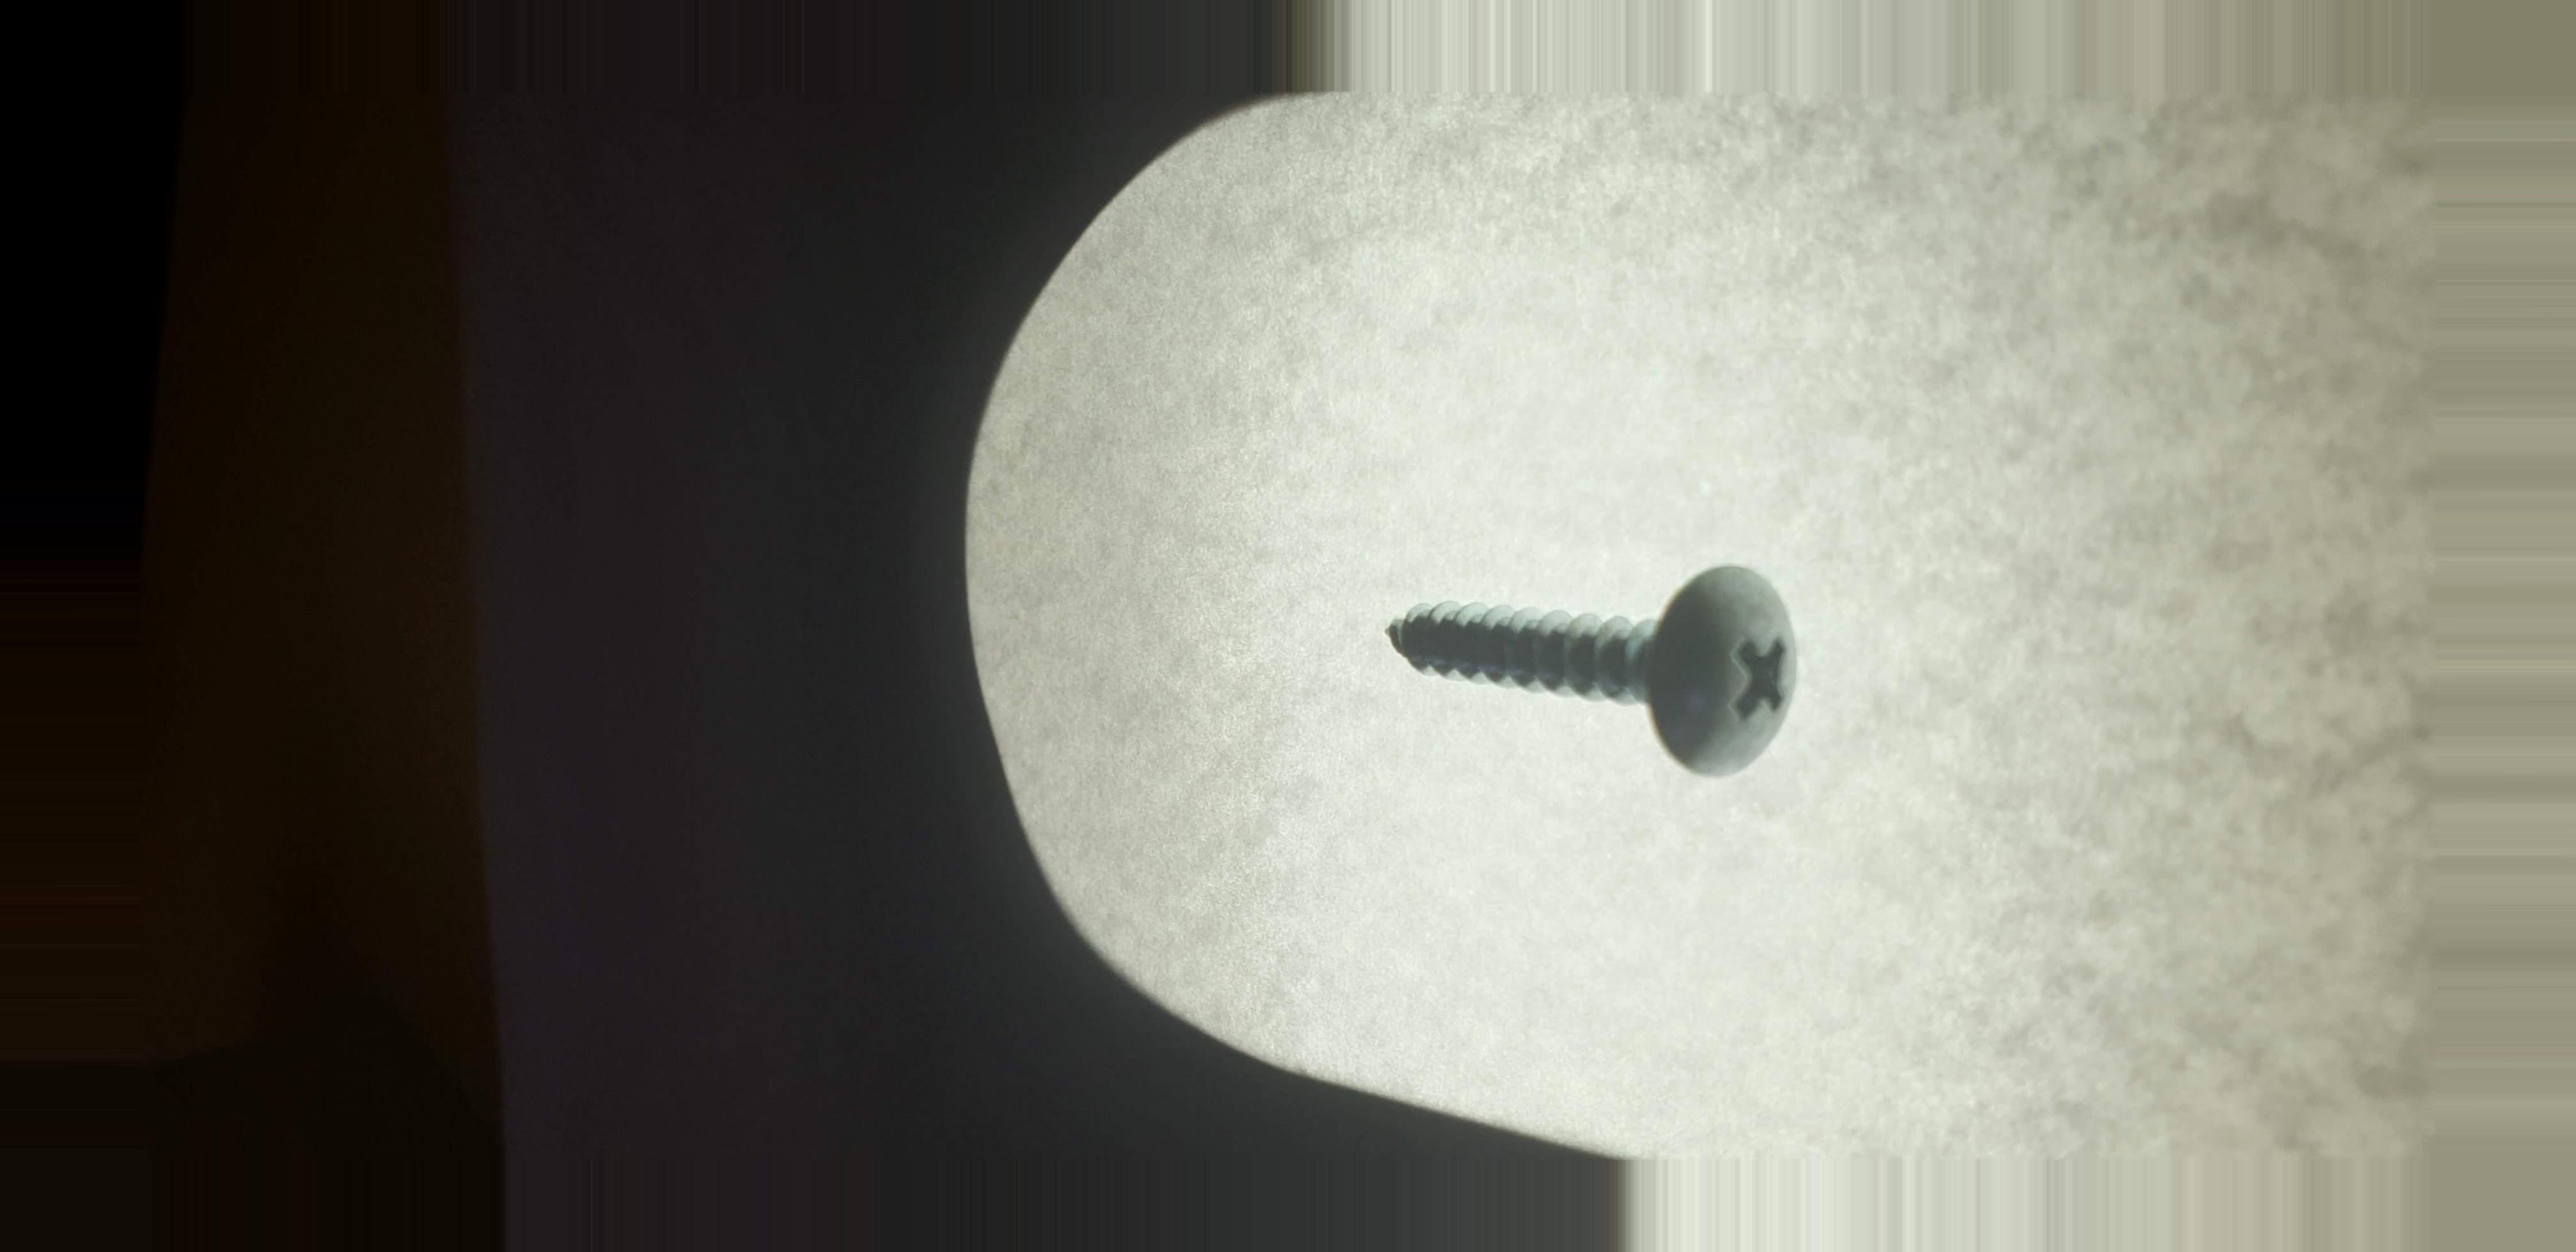S002: (1345, 514, 1883, 830)
